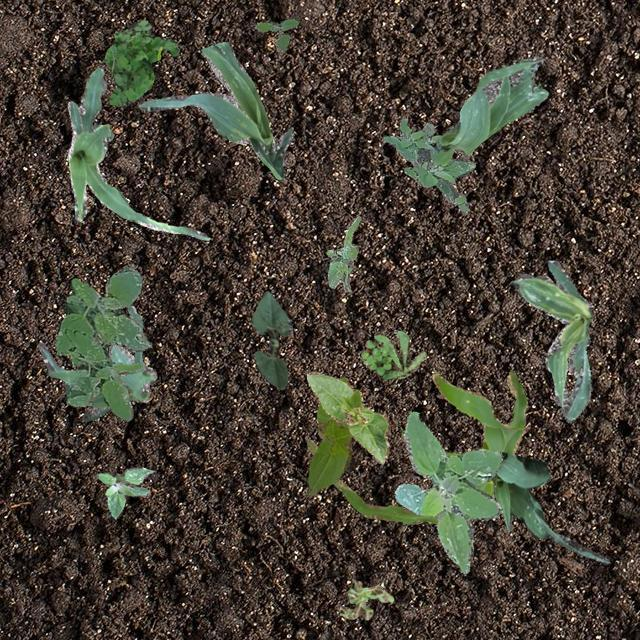crop: (306, 370, 526, 522), (66, 66, 210, 240), (138, 40, 292, 178), (36, 304, 156, 420), (512, 258, 592, 420), (491, 452, 608, 562), (436, 54, 548, 156), (306, 370, 388, 462), (306, 376, 351, 496), (250, 291, 290, 388)
weed: (393, 410, 502, 572), (54, 266, 150, 420), (382, 118, 474, 214), (104, 19, 178, 106), (360, 329, 426, 378), (96, 467, 152, 518), (326, 214, 360, 290), (337, 578, 392, 618), (254, 17, 298, 54)
